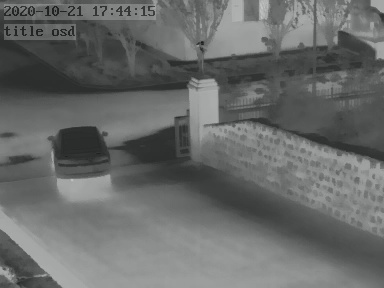vehicle: (42, 122, 114, 182)
